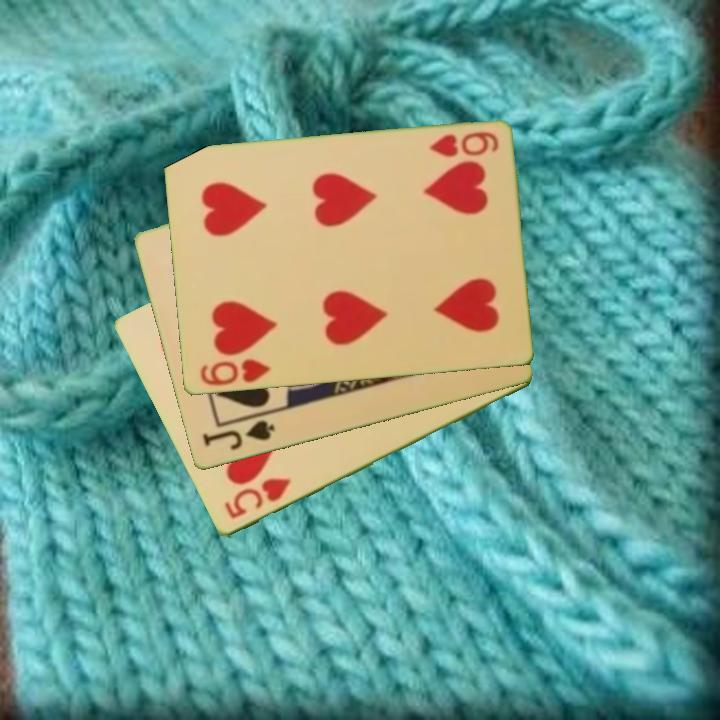5h: (220, 475, 294, 522)
6h: (196, 356, 273, 389), (425, 128, 501, 161)
Js: (198, 417, 278, 454)
